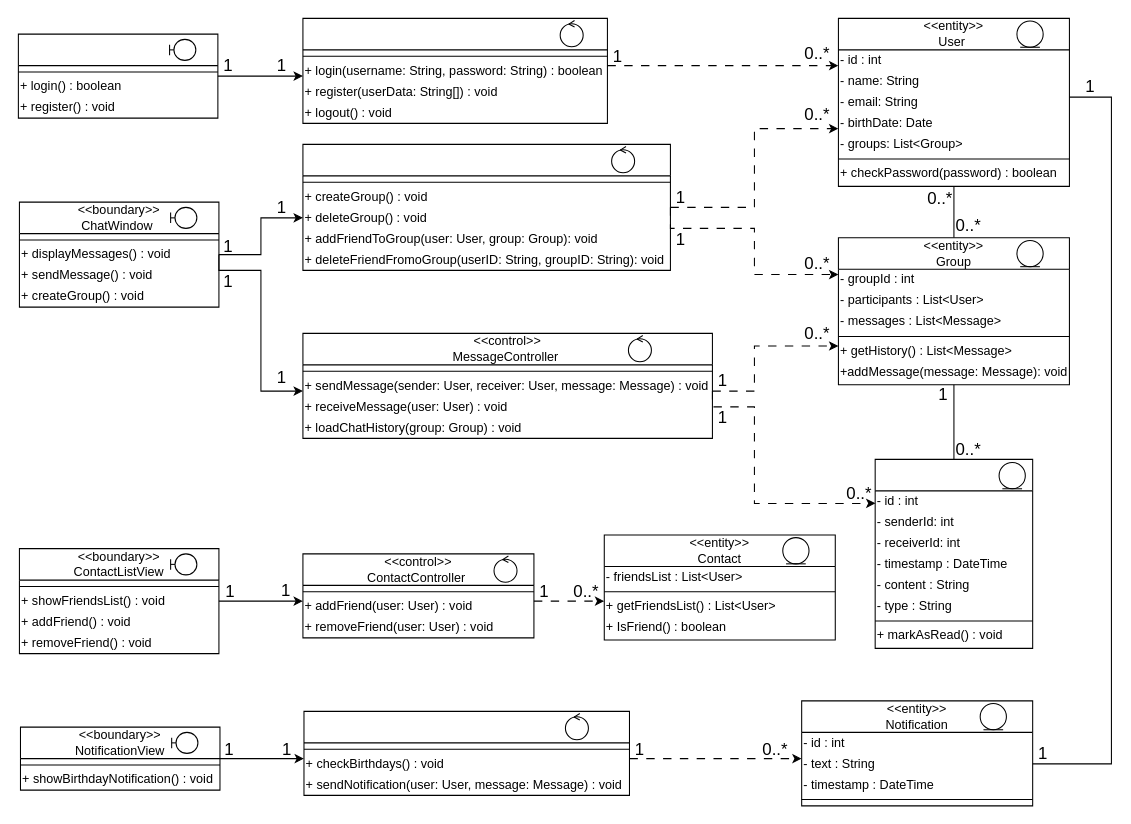
Image size: 1131x824. Some labels were removed from this diagram. Each missing label, with the box of its shape:
<<boundary>> LoginForm: (17, 33, 218, 118)
<<control>> AuthenticationController: (302, 17, 607, 123)
<<control>> GroupController: (302, 143, 670, 270)
<<control>> NotificationController: (303, 710, 629, 795)
<<entity>> Message: (874, 458, 1033, 648)
